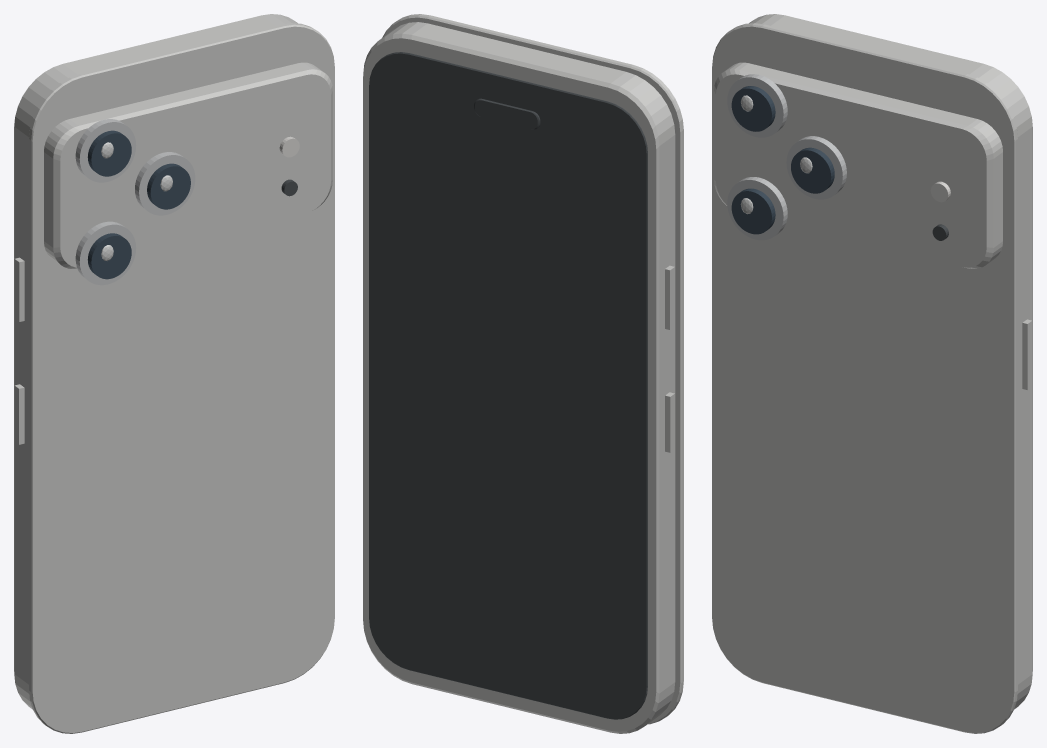
Rendered from iphone-17-pro-max.glb.
3 renders of one model, left to right at view 1: azimuth 30°, elevation 25°; view 2: azimuth 150°, elevation 25°; view 3: azimuth 330°, elevation 25°, orthographic.
Visible parts, largest first — view 1: iphone-17-pro-max__n020, iphone-17-pro-max__n004, iphone-17-pro-max__n000, iphone-17-pro-max__n008, iphone-17-pro-max__n005, iphone-17-pro-max__n011, iphone-17-pro-max__n009, iphone-17-pro-max__n006, iphone-17-pro-max__n012, iphone-17-pro-max__n016, iphone-17-pro-max__n017; view 2: iphone-17-pro-max__n002, iphone-17-pro-max__n000, iphone-17-pro-max__n020, iphone-17-pro-max__n003, iphone-17-pro-max__n016, iphone-17-pro-max__n017; view 3: iphone-17-pro-max__n020, iphone-17-pro-max__n004, iphone-17-pro-max__n000, iphone-17-pro-max__n005, iphone-17-pro-max__n011, iphone-17-pro-max__n008, iphone-17-pro-max__n009, iphone-17-pro-max__n006, iphone-17-pro-max__n012, iphone-17-pro-max__n018.
Boxes of the visible parts, box(x1,y1,x2,y2) form: iphone-17-pro-max__n020: box(29, 23, 334, 733); iphone-17-pro-max__n004: box(44, 62, 332, 268); iphone-17-pro-max__n000: box(14, 14, 297, 709); iphone-17-pro-max__n008: box(75, 221, 136, 285); iphone-17-pro-max__n005: box(75, 119, 136, 182); iphone-17-pro-max__n011: box(135, 152, 195, 215); iphone-17-pro-max__n009: box(87, 233, 131, 279); iphone-17-pro-max__n006: box(87, 130, 131, 176); iphone-17-pro-max__n012: box(147, 163, 190, 209); iphone-17-pro-max__n016: box(14, 257, 24, 321); iphone-17-pro-max__n017: box(14, 384, 24, 444); iphone-17-pro-max__n002: box(369, 52, 647, 719); iphone-17-pro-max__n000: box(363, 22, 675, 733); iphone-17-pro-max__n020: box(382, 14, 683, 724); iphone-17-pro-max__n003: box(474, 98, 540, 129); iphone-17-pro-max__n016: box(665, 265, 674, 329); iphone-17-pro-max__n017: box(665, 392, 674, 452); iphone-17-pro-max__n020: box(712, 23, 1017, 733); iphone-17-pro-max__n004: box(714, 62, 1002, 268); iphone-17-pro-max__n000: box(749, 14, 1032, 709); iphone-17-pro-max__n005: box(727, 74, 787, 137); iphone-17-pro-max__n011: box(786, 136, 846, 199); iphone-17-pro-max__n008: box(727, 177, 787, 240); iphone-17-pro-max__n009: box(731, 188, 775, 234); iphone-17-pro-max__n006: box(731, 86, 775, 131); iphone-17-pro-max__n012: box(791, 147, 834, 193); iphone-17-pro-max__n018: box(1022, 319, 1032, 389).
Size of the model in its own units: 1.26 by 2.58 by 0.3386.
